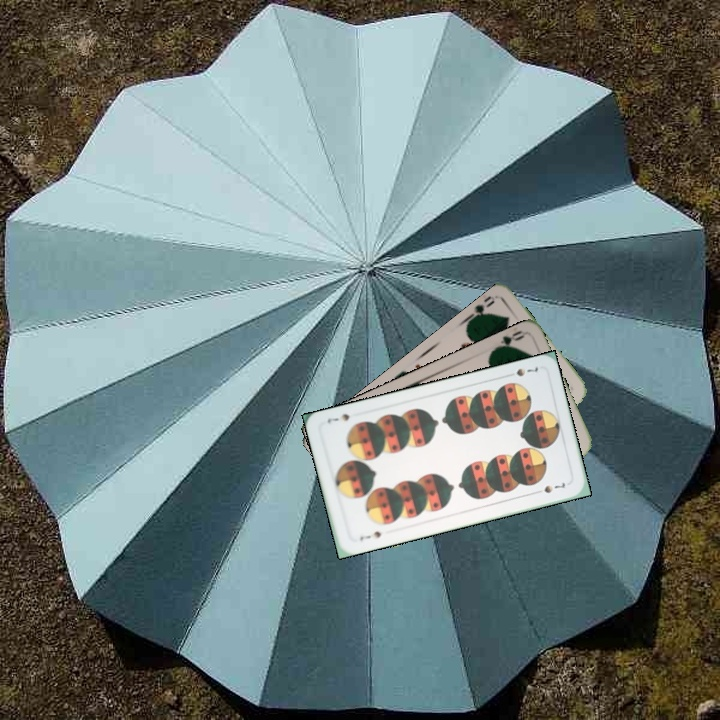GO: (490, 326, 527, 353), (463, 296, 497, 324)
S7: (356, 527, 384, 544), (512, 363, 541, 379)
